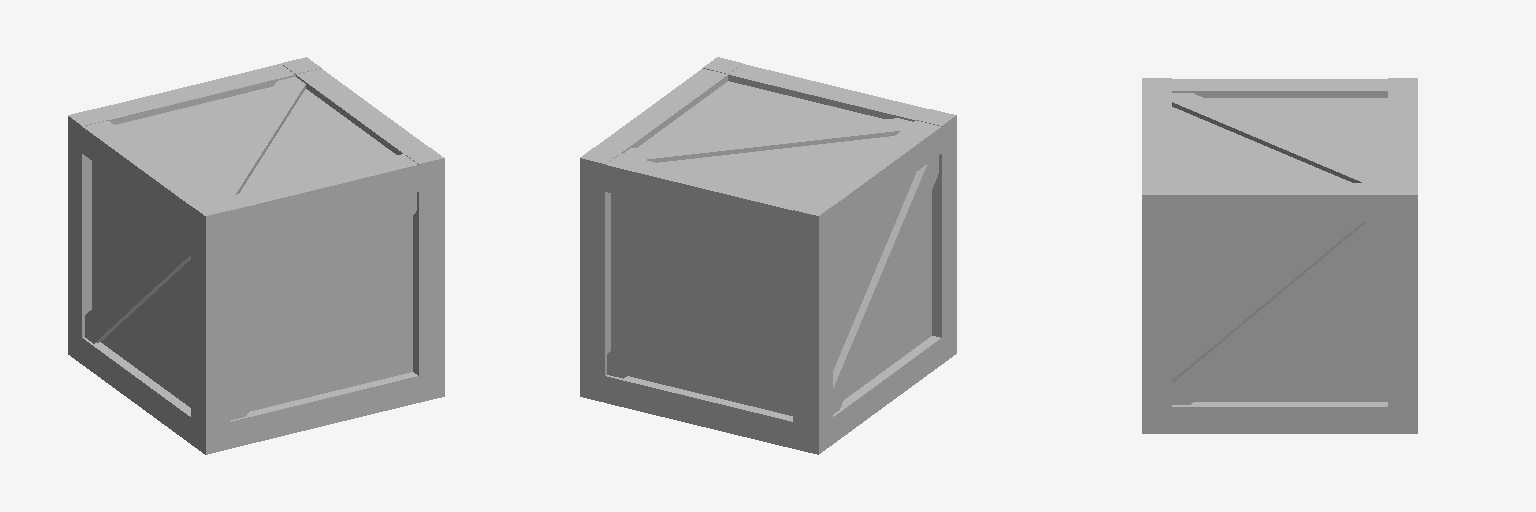
The model's file is crate.obj.
The picture shows the model from 3 angles: view 1: azimuth 30°, elevation 25°; view 2: azimuth 150°, elevation 25°; view 3: azimuth 270°, elevation 25°; orthographic projection.
Visible parts, largest first — view 1: Cube.002; view 2: Cube.002; view 3: Cube.002.
Boxes of the visible parts, box(x1,y1,x2,y2) form: Cube.002: box(68, 57, 444, 454); Cube.002: box(580, 57, 956, 454); Cube.002: box(1142, 78, 1417, 433).
Bounding box in the file's own units: 7.84 × 7.49 × 7.85.